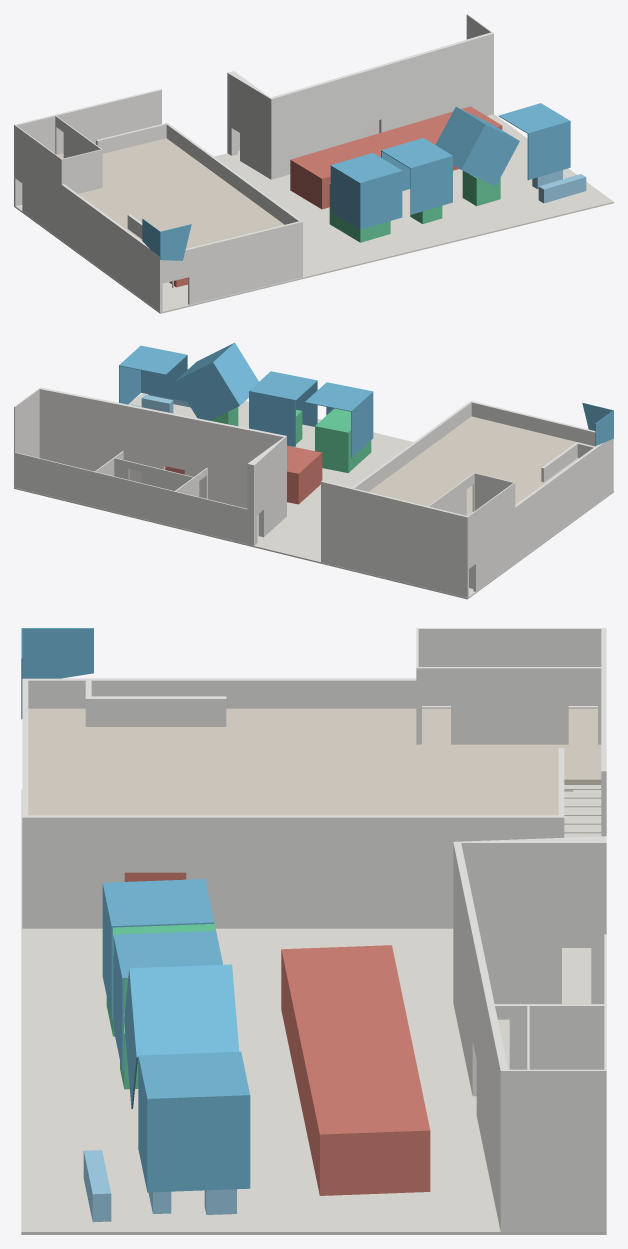
Rendered from 270011_stand_groupeA_v1.glb.
3 renders of one model, top to bottom at view 1: azimuth 30°, elevation 25°; view 2: azimuth 150°, elevation 25°; view 3: azimuth 270°, elevation 25°, orthographic. The views are drawn at different scales.
Parts seen in each view (by area): view 1: Wandbau_005, DS_022, Wandbau_012, Hebeboden_004, Wandbau_014, Wandbau_001, Expos_001, Hebeboden_001, Wandbau_006, Cube_1_011, Cube_1_001, Cube_1_008 (+11 smaller); view 2: Wandbau_005, Wandbau_001, DS_022, Wandbau_014, Wandbau_007, Wandbau_012, Hebeboden_004, Wandbau_006, Hebeboden_001, Cube_1_005, Cremer_002, Cube_1_009 (+16 smaller); view 3: Hebeboden_004, DS_022, Wandbau_014, Wandbau_012, Expos_001, Wandbau_006, Hebeboden_001, Wandbau_008, Wandbau_005, Cube_1_002, Cube_1_007, Wandbau_010 (+14 smaller).
Part boxes in pixels (x1=…): Wandbau_005: x1=269, y1=32, x2=493, y2=179; DS_022: x1=57, y1=138, x2=284, y2=248; Wandbau_012: x1=15, y1=138, x2=302, y2=311; Hebeboden_004: x1=214, y1=114, x2=613, y2=261; Wandbau_014: x1=15, y1=115, x2=302, y2=269; Wandbau_001: x1=14, y1=89, x2=161, y2=205; Expos_001: x1=290, y1=106, x2=502, y2=209; Hebeboden_001: x1=14, y1=190, x2=375, y2=313; Wandbau_006: x1=227, y1=71, x2=269, y2=178; Cube_1_011: x1=359, y1=170, x2=402, y2=229; Cube_1_001: x1=527, y1=121, x2=570, y2=179; Cube_1_008: x1=410, y1=155, x2=452, y2=214; Wandbau_005: x1=39, y1=387, x2=286, y2=517; Wandbau_001: x1=321, y1=480, x2=468, y2=597; DS_022: x1=369, y1=416, x2=578, y2=515; Wandbau_014: x1=352, y1=401, x2=613, y2=554; Wandbau_007: x1=14, y1=452, x2=247, y2=543; Wandbau_012: x1=368, y1=416, x2=613, y2=591; Hebeboden_004: x1=14, y1=393, x2=398, y2=551; Wandbau_006: x1=247, y1=437, x2=285, y2=545; Hebeboden_001: x1=274, y1=438, x2=613, y2=599; Cube_1_005: x1=175, y1=362, x2=239, y2=420; Cremer_002: x1=315, y1=408, x2=371, y2=472; Cube_1_009: x1=249, y1=390, x2=295, y2=446; Hebeboden_004: x1=21, y1=978, x2=606, y2=1234; DS_022: x1=28, y1=708, x2=601, y2=815; Wandbau_014: x1=22, y1=628, x2=601, y2=844; Wandbau_012: x1=22, y1=706, x2=597, y2=928; Expos_001: x1=281, y1=945, x2=430, y2=1195; Wandbau_006: x1=461, y1=836, x2=606, y2=1003; Hebeboden_001: x1=21, y1=789, x2=601, y2=999; Wandbau_008: x1=504, y1=1069, x2=606, y2=1231; Wandbau_005: x1=453, y1=841, x2=508, y2=1231; Cube_1_002: x1=147, y1=1094, x2=250, y2=1192; Cube_1_007: x1=129, y1=964, x2=238, y2=1057; Wandbau_010: x1=495, y1=1005, x2=606, y2=1069.
Bounding box in the file's own units: 34 × 6 × 19.
